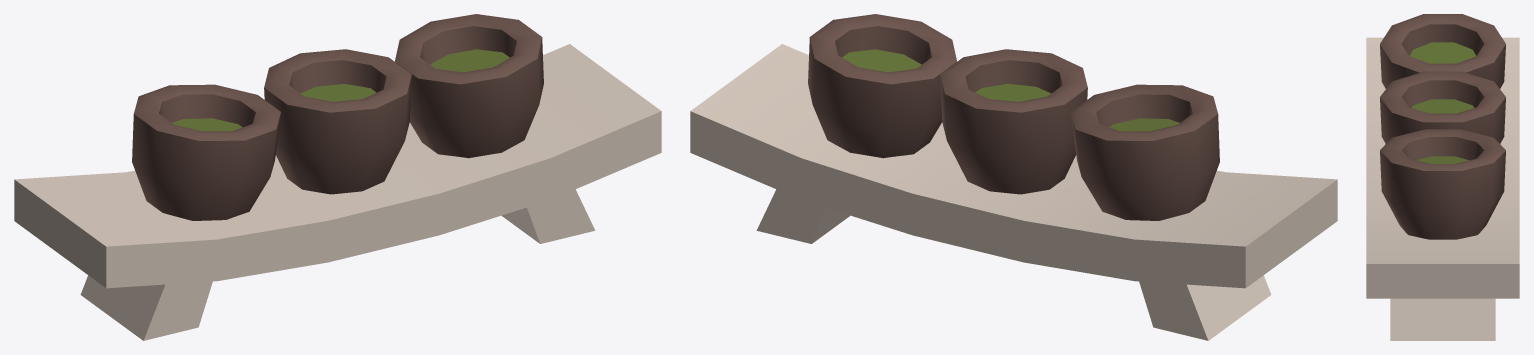
File: tray_decorated.gltf.glb
The picture shows the model from 3 angles, left to right: view 1: azimuth 30°, elevation 25°; view 2: azimuth 150°, elevation 25°; view 3: azimuth 270°, elevation 25°; orthographic projection. The views are drawn at different scales.
Visible parts, largest first — view 1: tray_decorated; view 2: tray_decorated; view 3: tray_decorated.
Part boxes in pixels (box(x1,y1,x2,y2)): tray_decorated: box(14, 14, 661, 340); tray_decorated: box(690, 14, 1337, 340); tray_decorated: box(1366, 14, 1519, 340).
Size of the model in its own units: 1.26 by 0.4113 by 0.3596.
